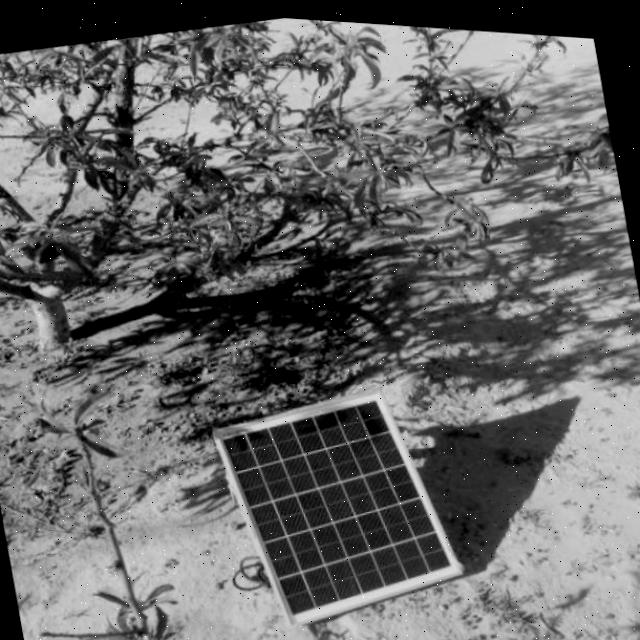Normal Solar Panel: (208, 365, 474, 640)
